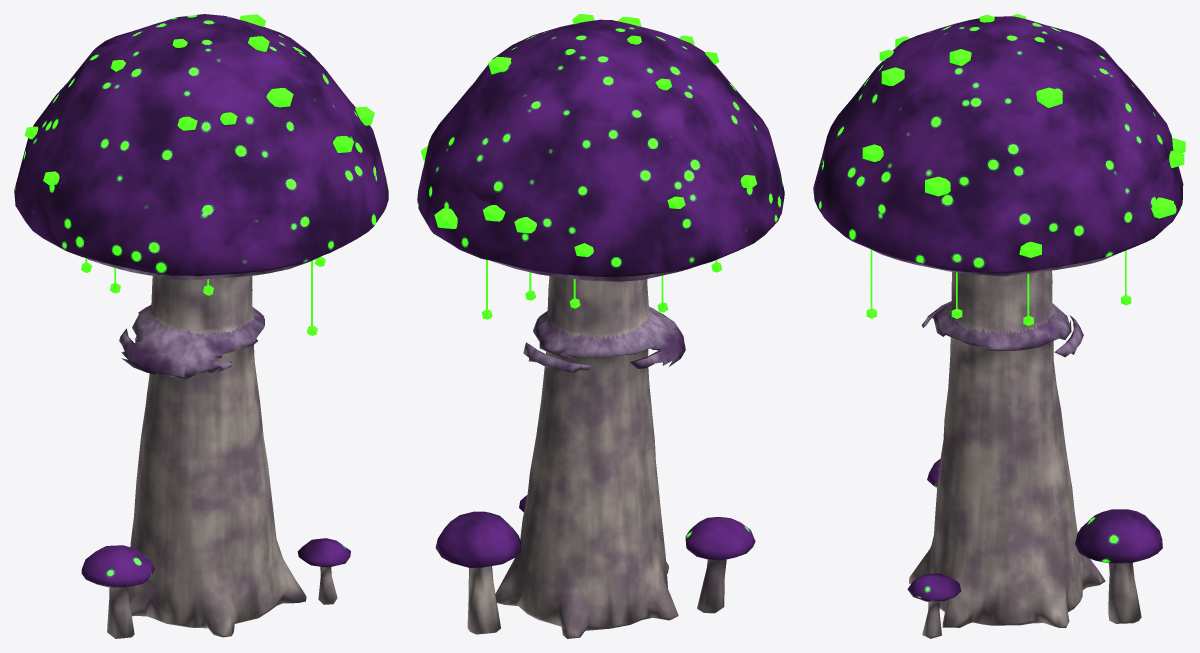
The model's file is arbol_hongo_gigante.fbx.
3 views of the same model, side by side, from view 1: azimuth 30°, elevation 25°; view 2: azimuth 150°, elevation 25°; view 3: azimuth 270°, elevation 25° (orthographic).
Parts seen in each view (by area): view 1: hongo, esporas_neon; view 2: hongo, esporas_neon; view 3: hongo, esporas_neon.
Part boxes in pixels (box(x1,y1,x2,y2)): hongo: box(14, 14, 388, 638); esporas_neon: box(24, 14, 374, 335); hongo: box(417, 19, 784, 638); esporas_neon: box(421, 14, 757, 319); hongo: box(813, 16, 1183, 638); esporas_neon: box(862, 14, 1185, 325).
Size of the model in its own units: 6.01 by 10 by 6.
Materials: 1 (1 with a texture image).
